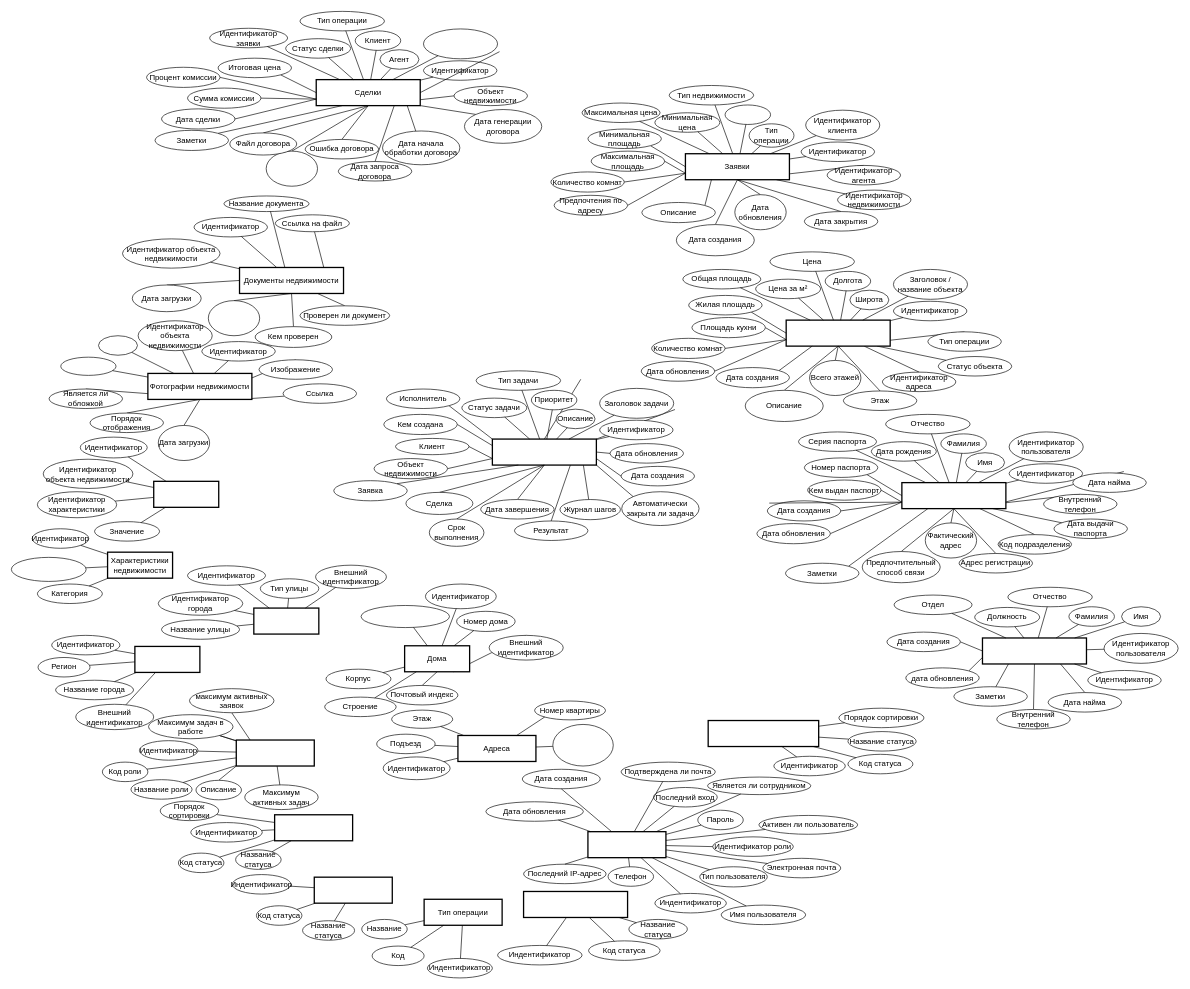
Some shapes in this 1190 by 989 pixel diagram are drawn without their labels. Here are the shapes that lost their labels. From the top down, the centre of each, then its label:
At (460,43): "Номер сделки".
At (747,114): "Статус заявки".
At (292,168): "Статус договора".
At (234,318): "Дата проверки".
At (837,332): "Объекты недвижимости".
At (117,345): "Подпись".
At (88,366): "Скрыто ли фото".
At (544,451): "Задачи".
At (186,494): "Значения характеристик недвижимости".
At (953,495): "профили клиентов".
At (48,569): "Название характеристики".
At (286,620): "Улицы".
At (404,616): "Идентификатор улицы".
At (167,659): "Города".
At (1034,650): "Профили сотрудников".
At (275,752): "Роли пользователей".
At (582,745): "Идентификатор дома".
At (763,733): "Статусы задач".
At (313,827): "Статусы сделок".
At (626,844): "Пользователь".
At (353,890): "Статусы недвижимости".
At (575,904): "Статусы заявок".
